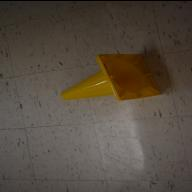cone: (61, 53, 161, 100)
